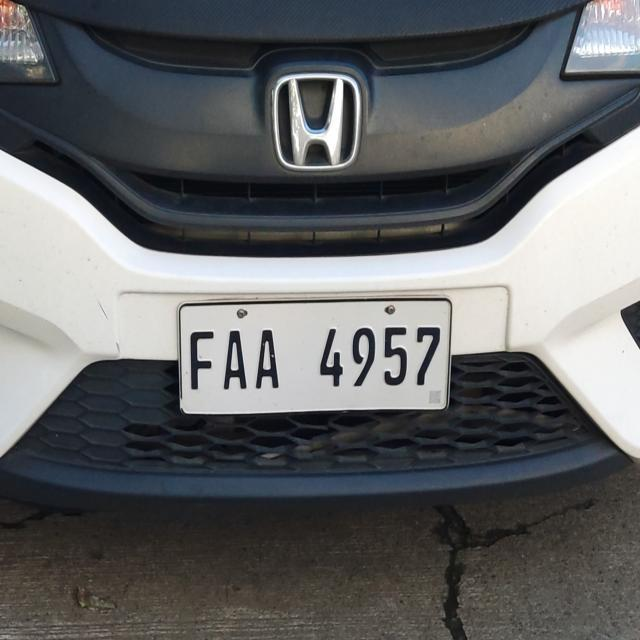LicensePlate: (165, 293, 463, 425)
